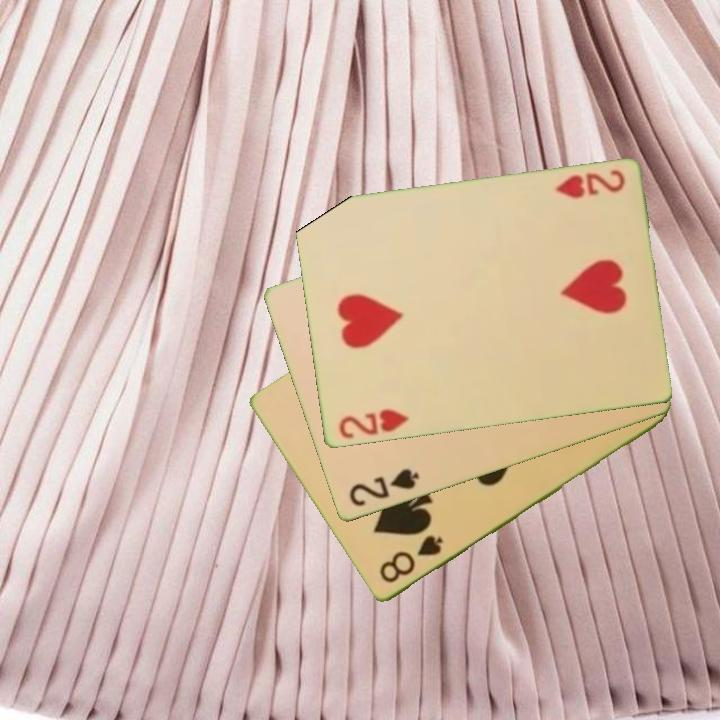2h: (335, 406, 412, 442), (551, 167, 628, 202)
2s: (345, 465, 422, 510)
8s: (375, 532, 446, 587)
